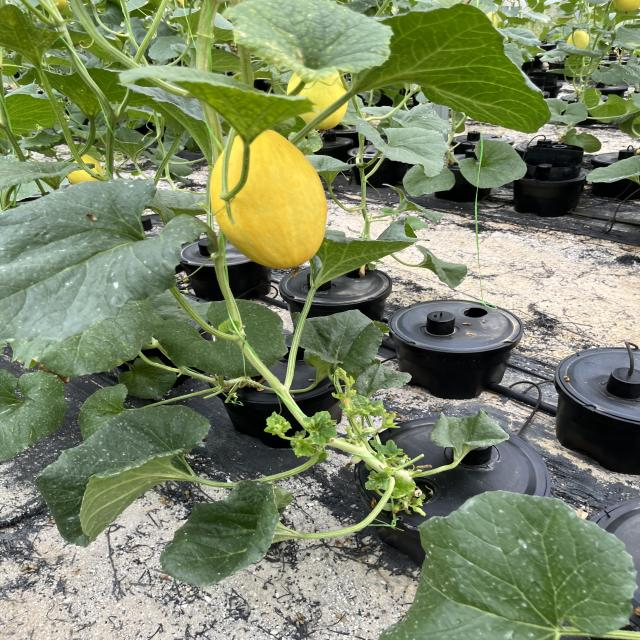CMV: (124, 65, 326, 147), (0, 1, 66, 64)
downy mildew: (158, 478, 302, 588)
healthy: (355, 4, 549, 131), (3, 95, 69, 134)
powdery mildew: (384, 491, 637, 640), (1, 180, 217, 332), (29, 402, 206, 550), (0, 358, 80, 455), (298, 228, 424, 282), (308, 307, 403, 370), (416, 415, 529, 465), (453, 137, 543, 189), (361, 119, 456, 168)
